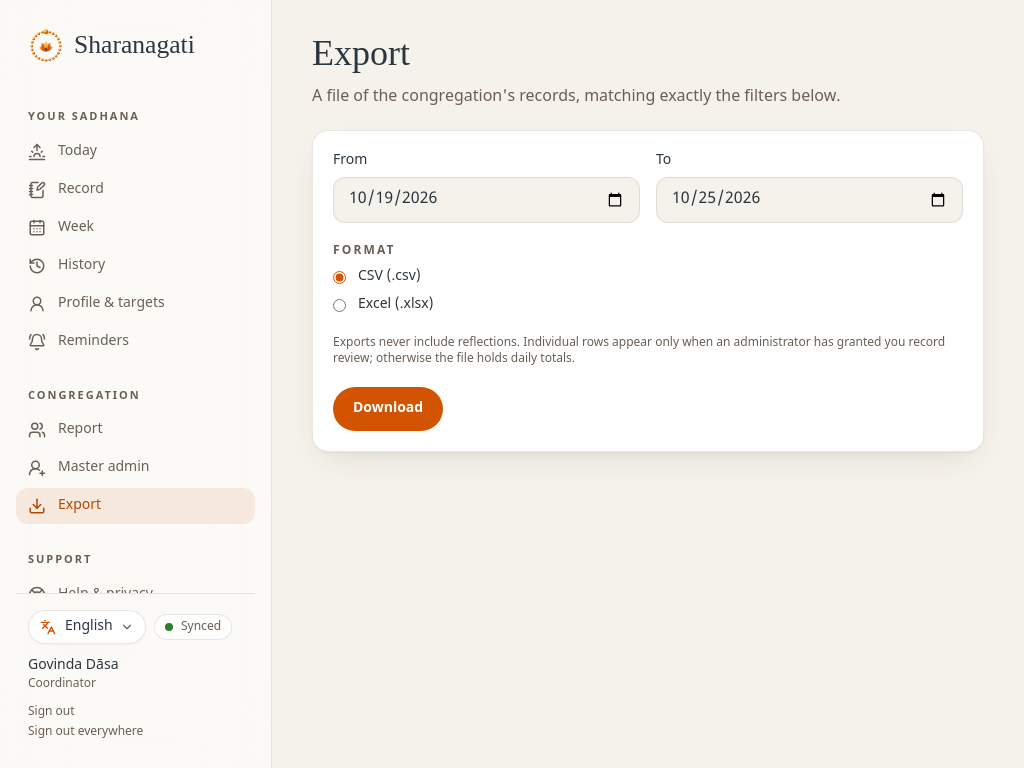
Test: ExportScreen › explains that Excel is not available yet
What coordinates should you click on to do the following:
click the radio button labelled "Excel (.xlsx)"
I would click on:
 (340, 305)
Its box is [333, 298, 346, 312].
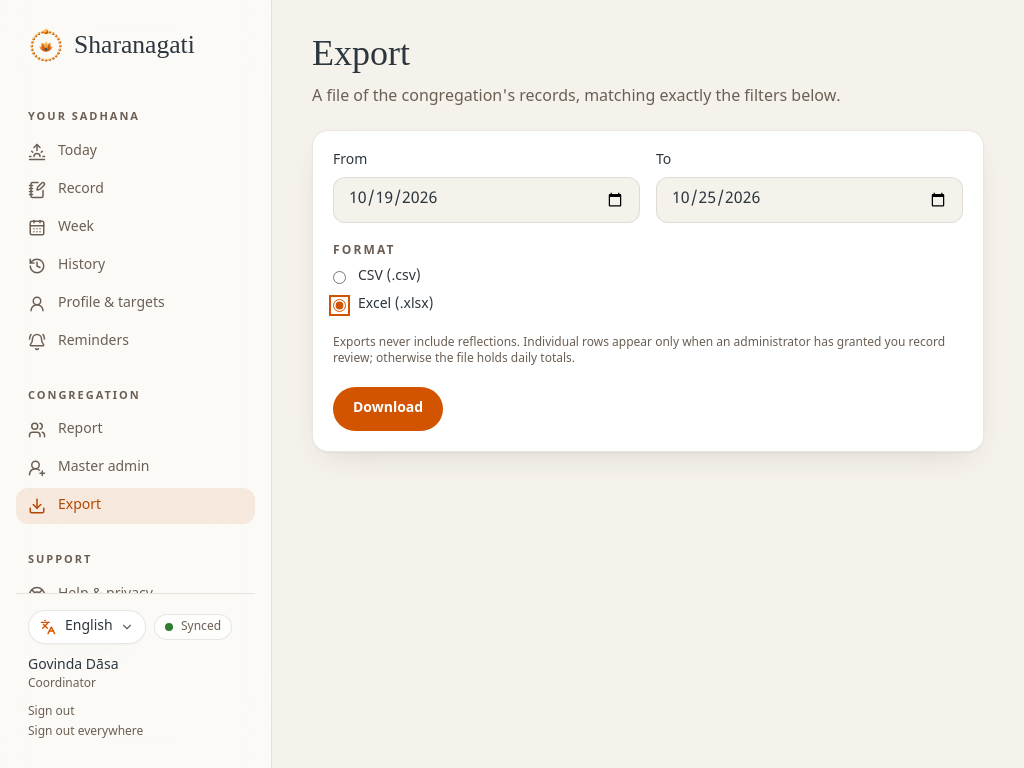
What coordinates should you click on to do the following:
click the button "Download"
I would click on:
 (388, 409)
Its box is [333, 387, 443, 431].
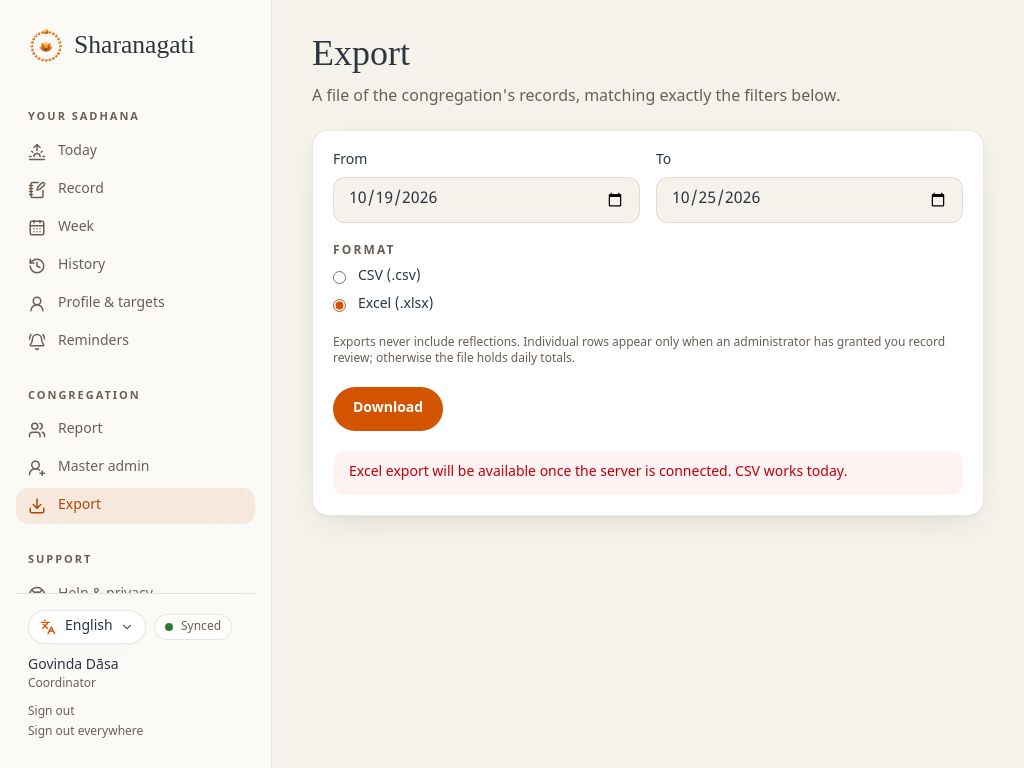
Expected: the text "Excel export will be available once the server is connected. CSV works today." is shown, [333, 451, 963, 495]
